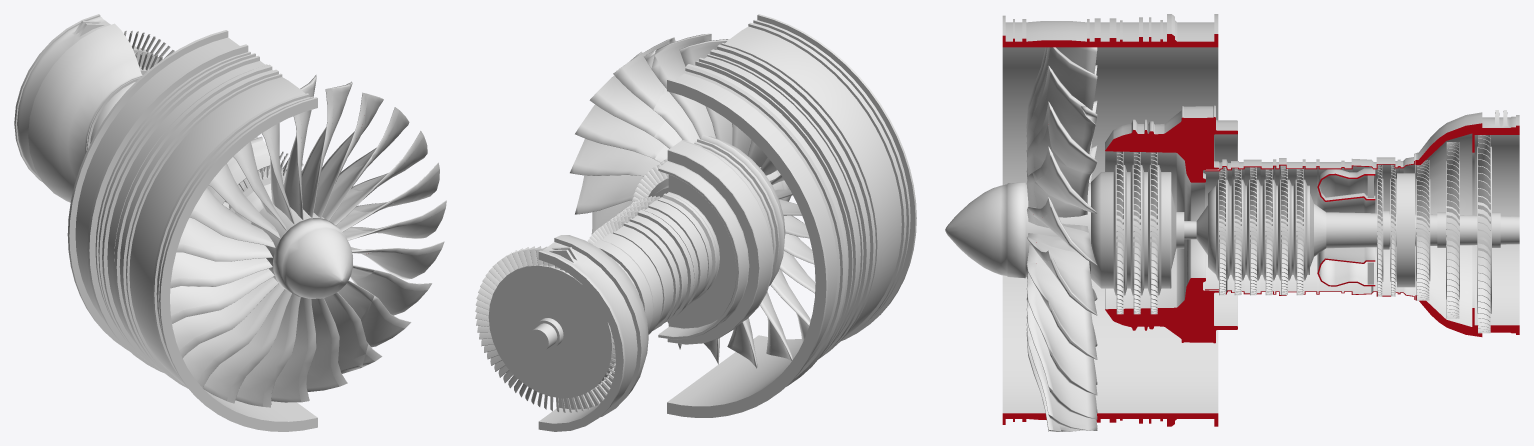
The model's file is BypassEngine_Compressor_Turbine_Section.fbx.
3 renders of one model, left to right at view 1: azimuth 30°, elevation 25°; view 2: azimuth 150°, elevation 25°; view 3: azimuth 270°, elevation 25°, orthographic. The views are drawn at different scales.
Visible parts, largest first — view 1: Cylinder3_lp.001, FanBig_UnityMat, Cylinder6_lp.002, FanBig_UnityMat.001, TurbofanT_lp.001, Cylinder2_lp.001, Cylinder_lp.004, Cube.005; view 2: Cylinder3_lp.001, Cylinder2_lp.001, Fan3_UnityMat.009, FanBig_UnityMat, FanBig_UnityMat.001, Cylinder6_lp.002, Cylinder_lp.002, Cylinder_lp.003, Cube.005, Cylinder_lp.004, Cube.008, Fan3_UnityMat.008; view 3: Cylinder3_lp.001, FanBig_UnityMat.001, Cylinder6_lp.002, FanBig_UnityMat, Cylinder2_lp.001, Cylinder2_lp.002, TurbofanT_lp.001, Fan3_UnityMat.008, Fan3_UnityMat.004, Fan3_UnityMat.010, Cylinder3_lp.002, Cylinder_lp.002 (+30 smaller).
Boxes of the visible parts, x1=… form: Cylinder3_lp.001: x1=67, y1=30, x2=317, y2=431; FanBig_UnityMat: x1=170, y1=75, x2=374, y2=407; Cylinder6_lp.002: x1=14, y1=14, x2=142, y2=202; FanBig_UnityMat.001: x1=348, y1=81, x2=446, y2=367; TurbofanT_lp.001: x1=273, y1=218, x2=352, y2=298; Cylinder2_lp.001: x1=207, y1=136, x2=270, y2=204; Cylinder_lp.004: x1=87, y1=77, x2=140, y2=149; Cube.005: x1=124, y1=30, x2=174, y2=58; Cylinder3_lp.001: x1=667, y1=14, x2=916, y2=417; Cylinder2_lp.001: x1=658, y1=134, x2=785, y2=344; Fan3_UnityMat.009: x1=488, y1=264, x2=615, y2=398; FanBig_UnityMat: x1=651, y1=33, x2=815, y2=368; FanBig_UnityMat.001: x1=570, y1=38, x2=670, y2=234; Cylinder6_lp.002: x1=538, y1=235, x2=648, y2=431; Cylinder_lp.002: x1=633, y1=193, x2=717, y2=321; Cylinder_lp.003: x1=602, y1=218, x2=683, y2=334; Cube.005: x1=475, y1=246, x2=615, y2=412; Cylinder_lp.004: x1=593, y1=239, x2=653, y2=330; Cube.008: x1=632, y1=161, x2=668, y2=203; Fan3_UnityMat.008: x1=528, y1=323, x2=557, y2=351; Cylinder3_lp.001: x1=1002, y1=14, x2=1218, y2=413; FanBig_UnityMat.001: x1=1026, y1=105, x2=1097, y2=431; Cylinder6_lp.002: x1=1415, y1=110, x2=1519, y2=326; FanBig_UnityMat: x1=1025, y1=47, x2=1097, y2=431; Cylinder2_lp.001: x1=1105, y1=105, x2=1237, y2=326; Cylinder2_lp.002: x1=1105, y1=117, x2=1237, y2=343; TurbofanT_lp.001: x1=945, y1=182, x2=1025, y2=278; Fan3_UnityMat.008: x1=1171, y1=191, x2=1519, y2=268; Fan3_UnityMat.004: x1=1091, y1=172, x2=1171, y2=288; Fan3_UnityMat.010: x1=1317, y1=168, x2=1375, y2=285; Cylinder3_lp.002: x1=1002, y1=34, x2=1218, y2=426; Cylinder_lp.002: x1=1205, y1=158, x2=1302, y2=294.
Size of the model in its own units: 598 by 618 by 820.
